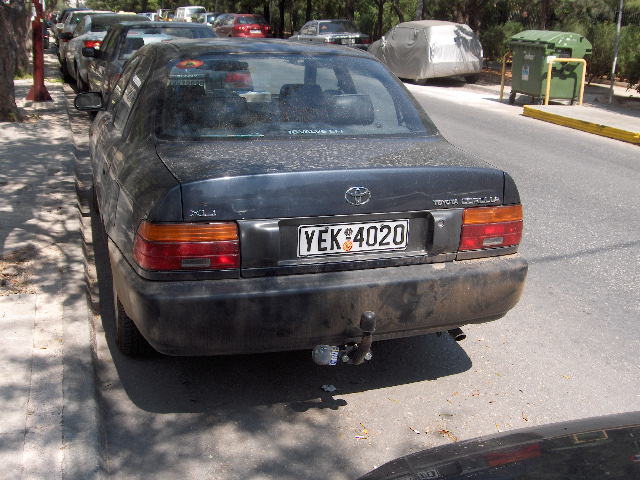licenseplate: (297, 218, 408, 257)
